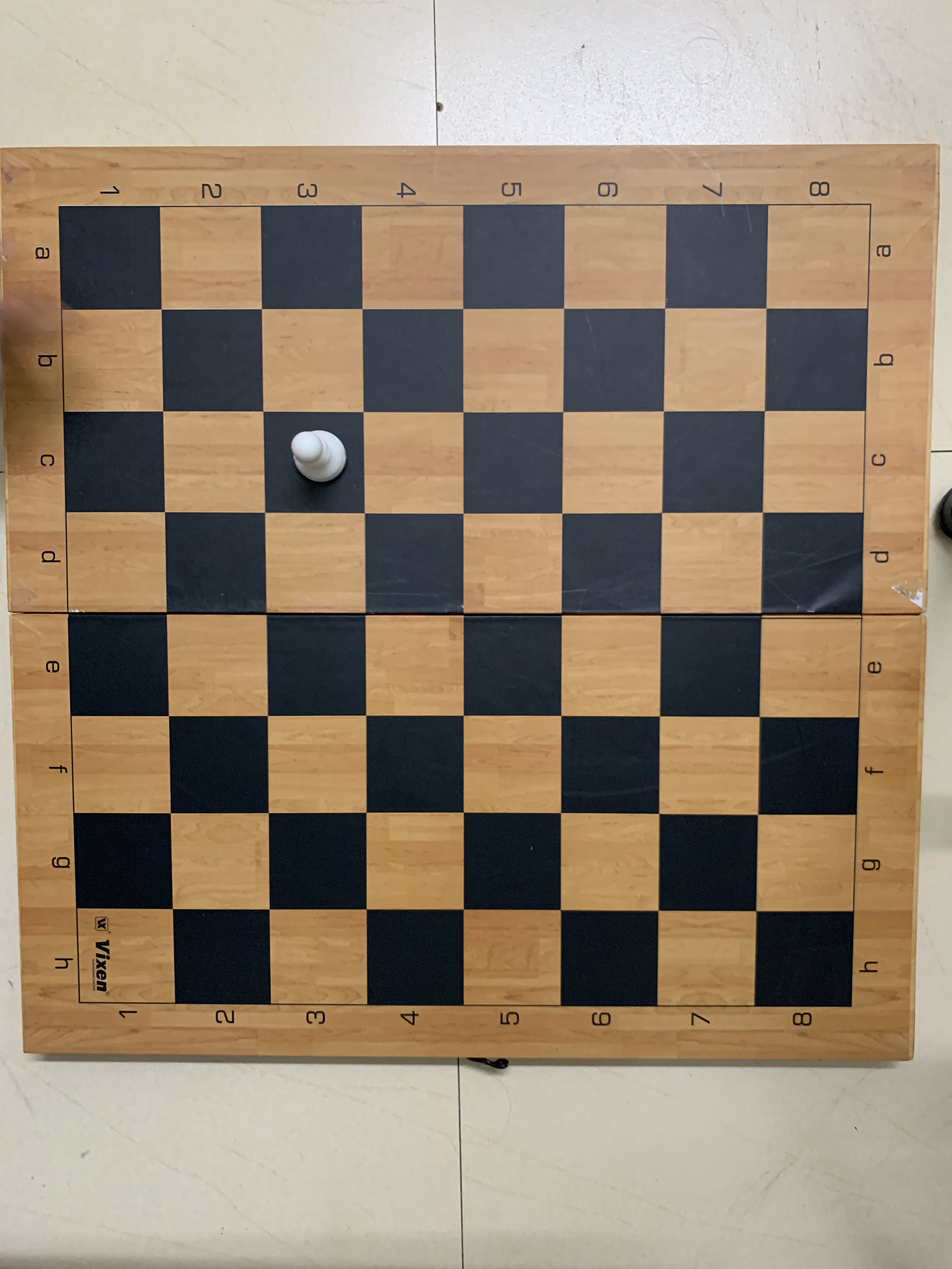white_pawn: (258, 409, 375, 508)
